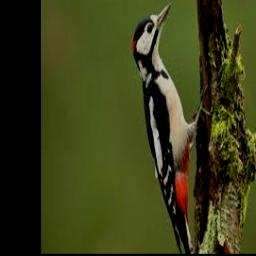Woodpecker: (133, 1, 213, 254)
